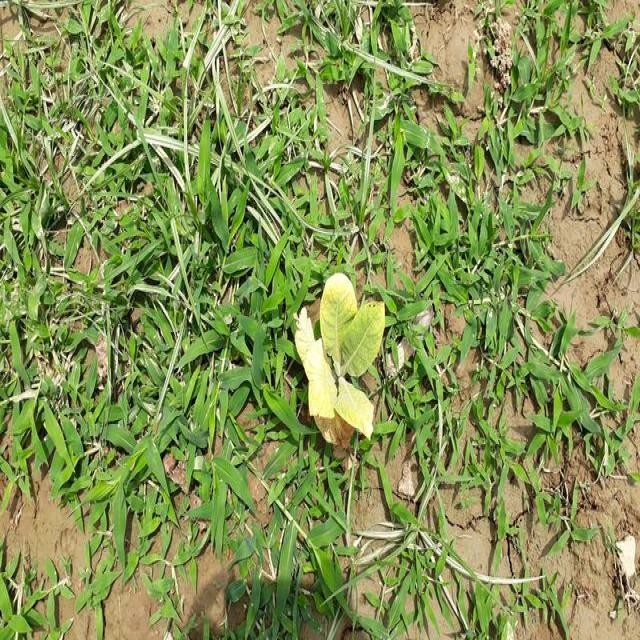crop: (289, 268, 385, 458)
